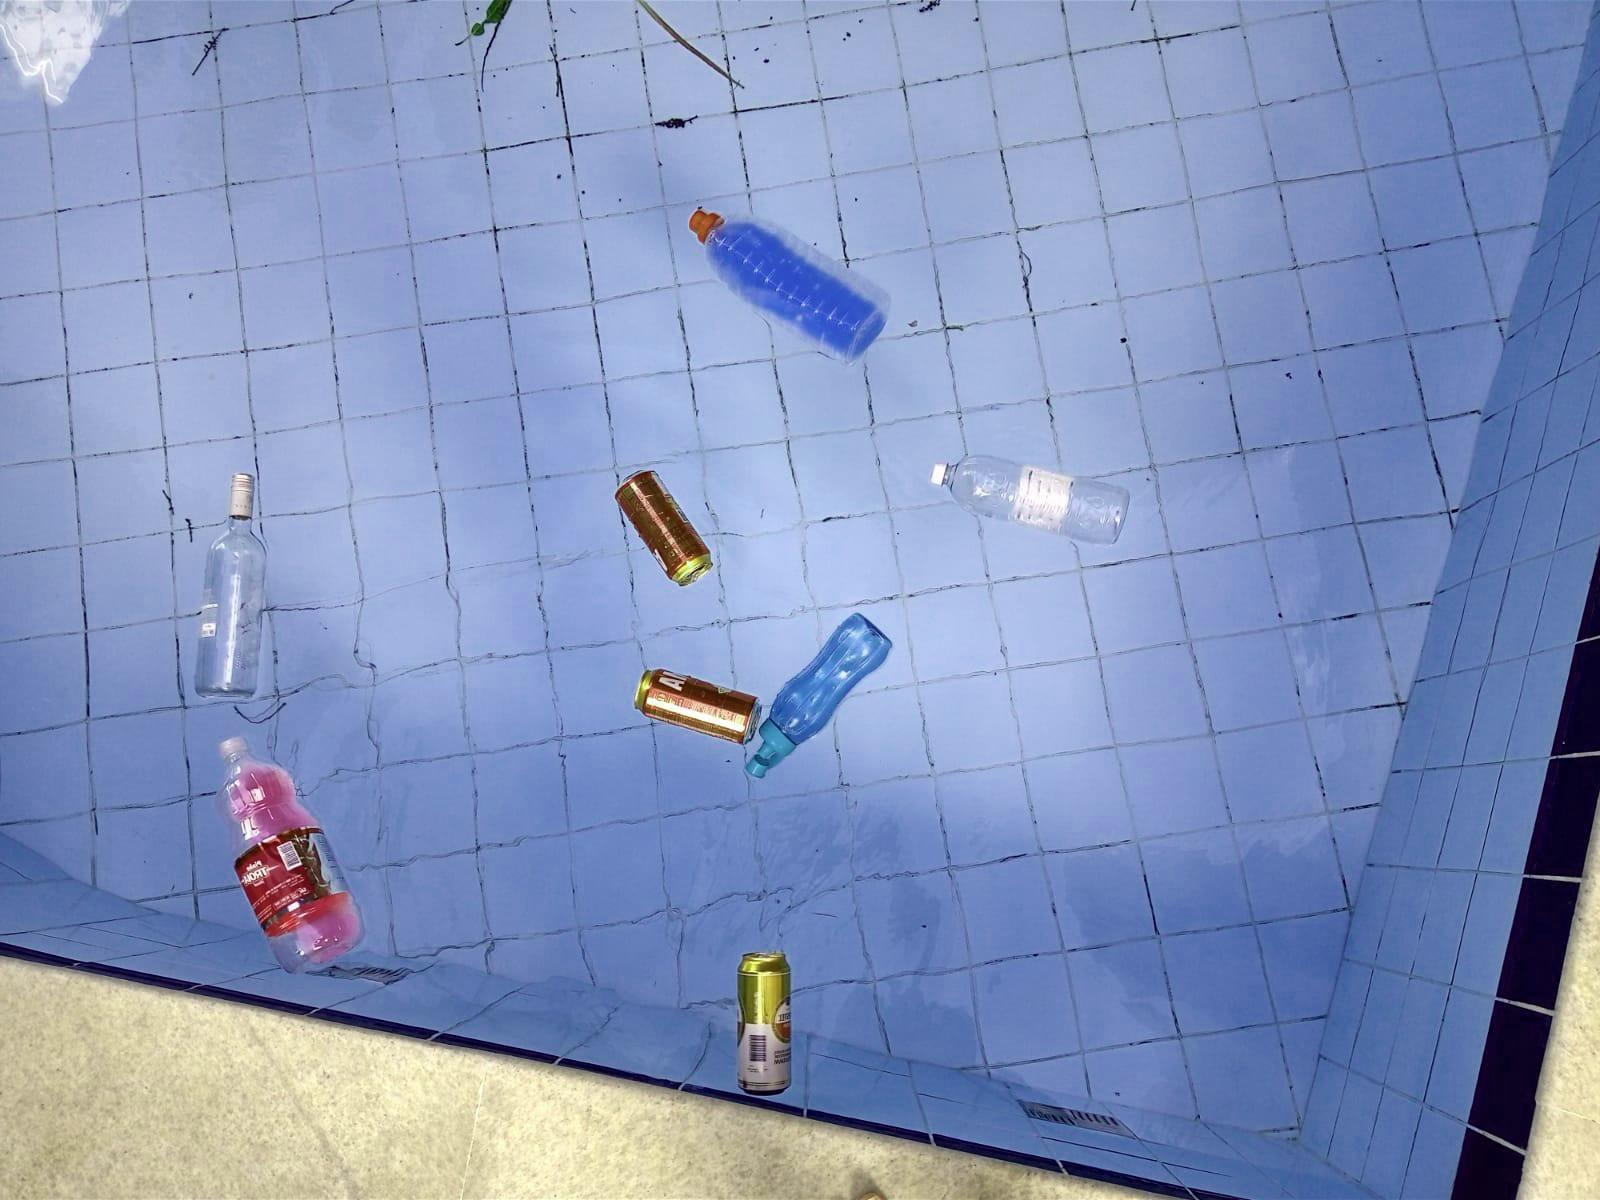Metal: (590, 460, 732, 608), (592, 647, 756, 756), (717, 913, 805, 1100)
Plastic: (663, 193, 902, 389), (134, 454, 302, 706), (170, 734, 359, 953), (753, 606, 912, 823), (906, 440, 1172, 557)
